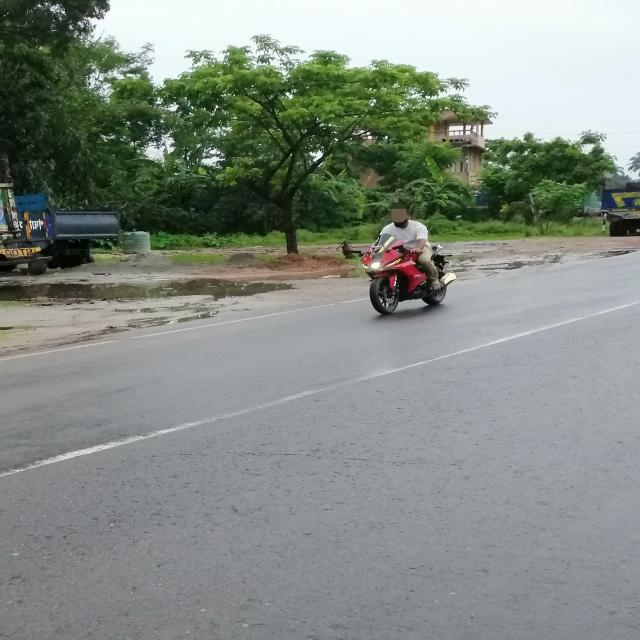Motorbike: (334, 231, 471, 317)
